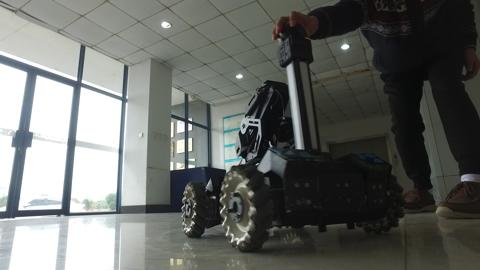chariot: (176, 27, 413, 257)
